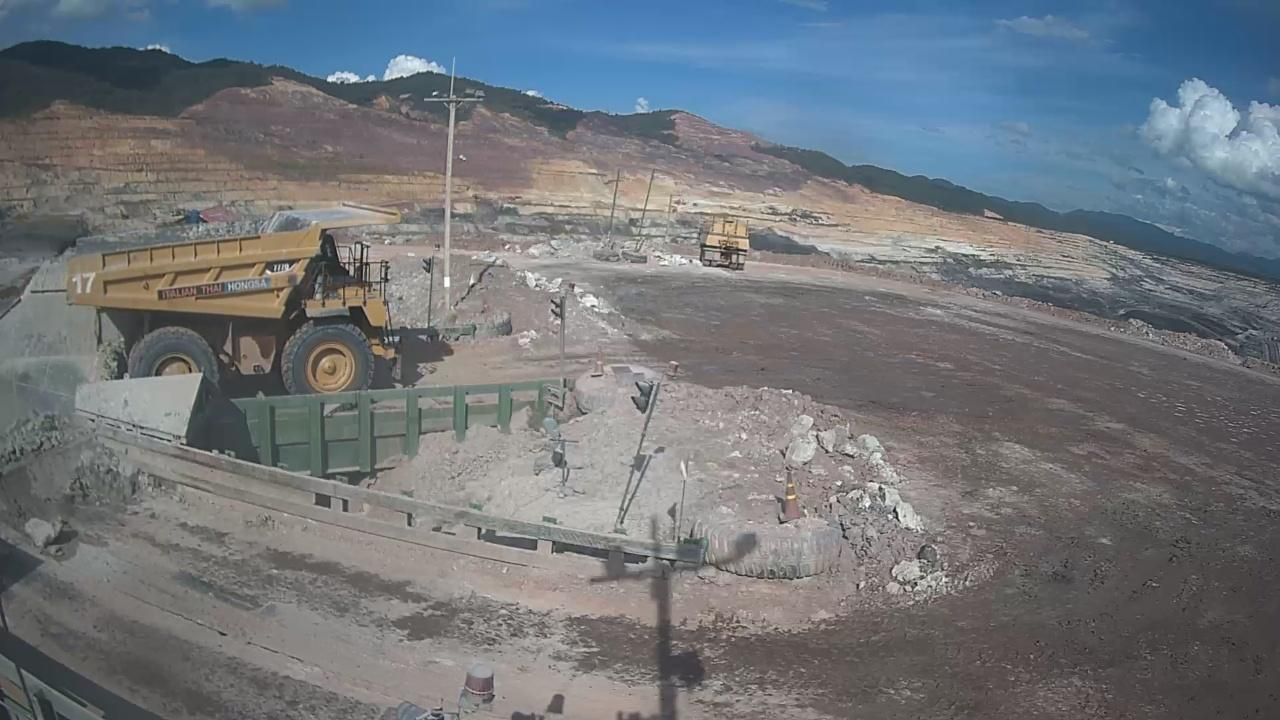company: (152, 277, 281, 301)
empty_load: (114, 210, 323, 250)
mining_truck: (54, 201, 416, 420)
tail_number: (70, 268, 98, 303)
truck_size: (258, 258, 300, 276)
